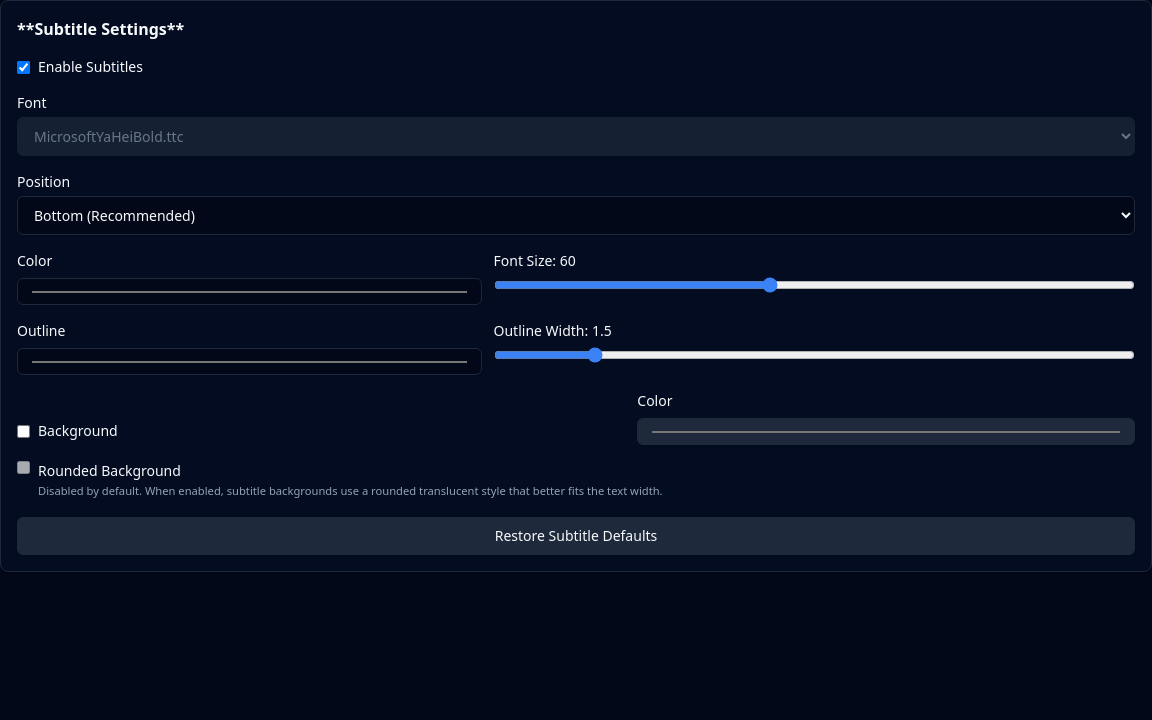
Scenario: SubtitlePanel › gates controls and validates a custom position
The width and height of the screenshot is (1152, 720).
Click the checkbox labelled "Enable Subtitles" at [24, 67], box [17,60,30,74]
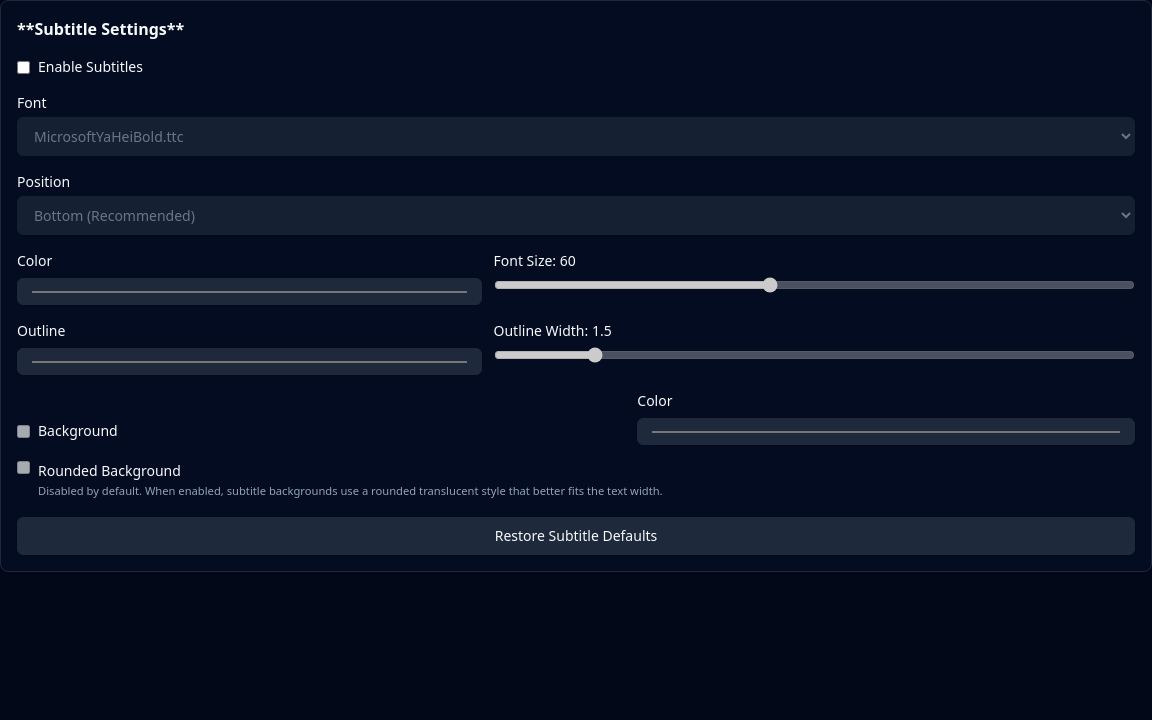
expect the dropdown labelled "Font" is disabled: met, box [17,117,1135,156]
Click the checkbox labelled "Enable Subtitles" at [24, 67], box [17,60,30,74]
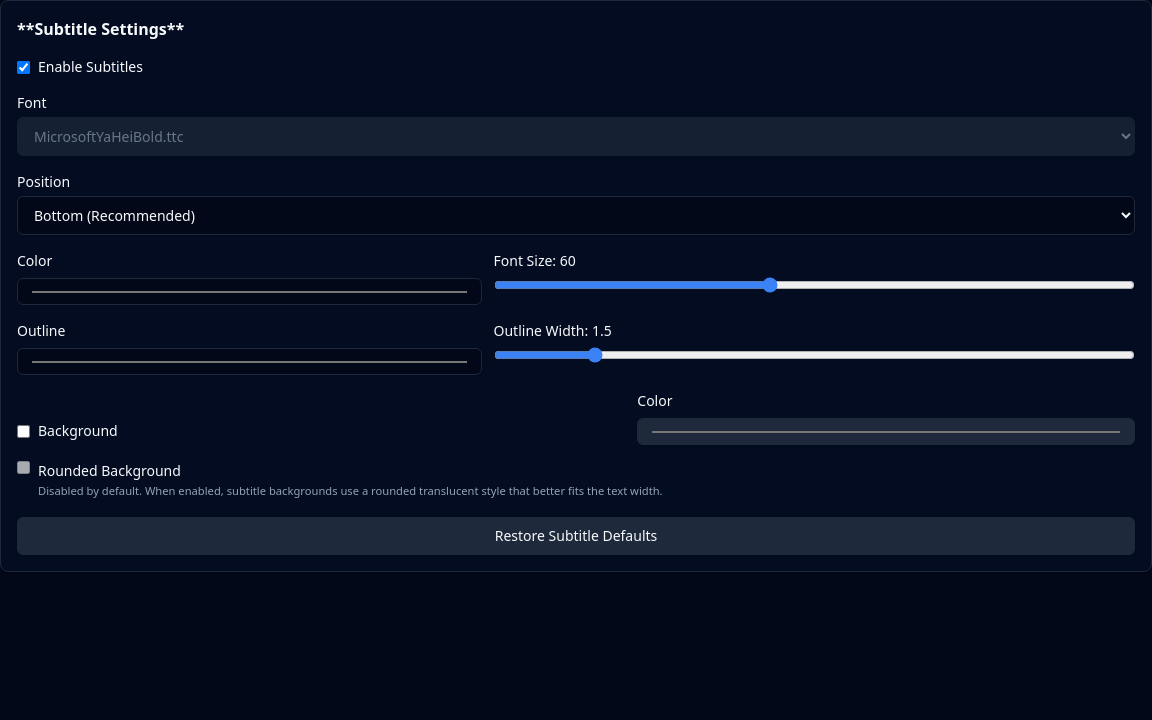
Select "Custom" in the dropdown labelled "Position" at [576, 216], box [17,196,1135,235]
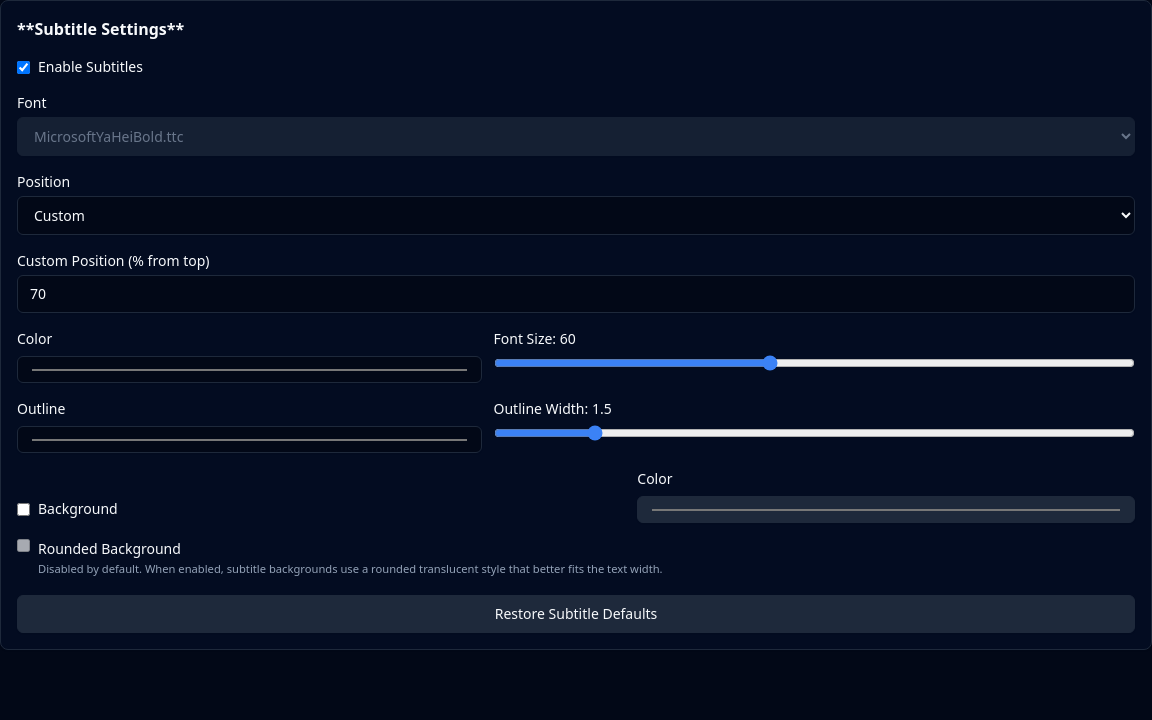
Replace the text in the field labelled "Custom Position (% from top)" with "150" at [576, 294], box [17,275,1135,313]
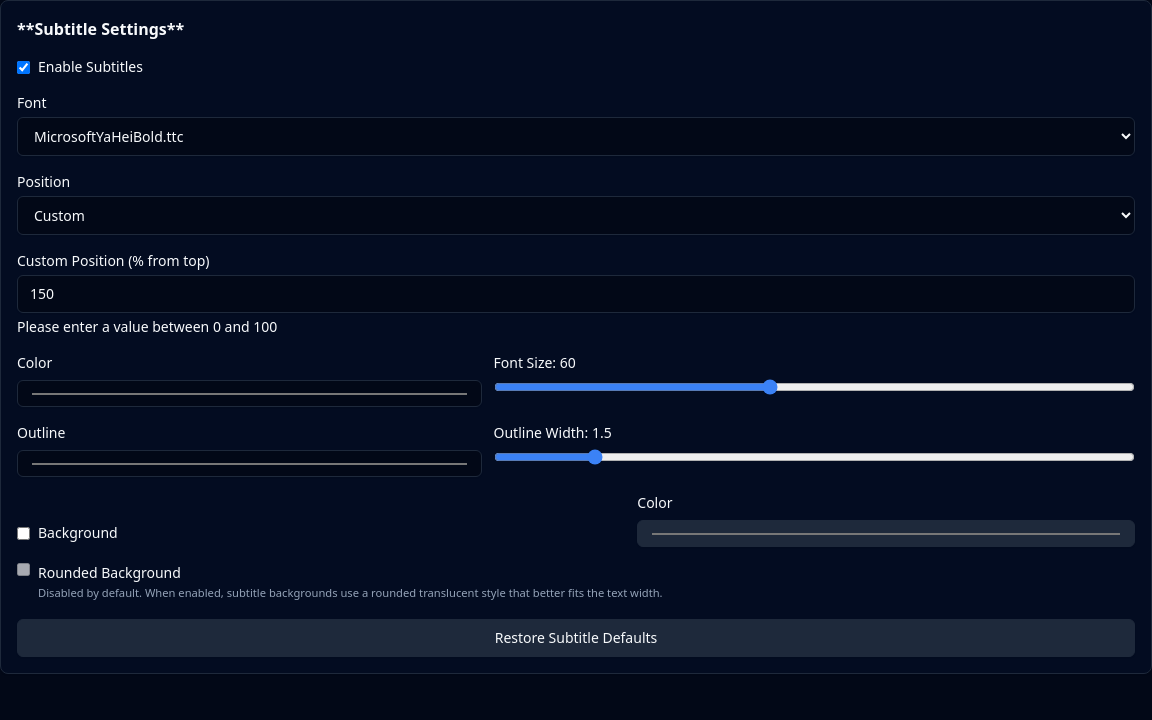
expect the message reads "Please enter a value between 0 and 100": met, box [17,317,277,336]
